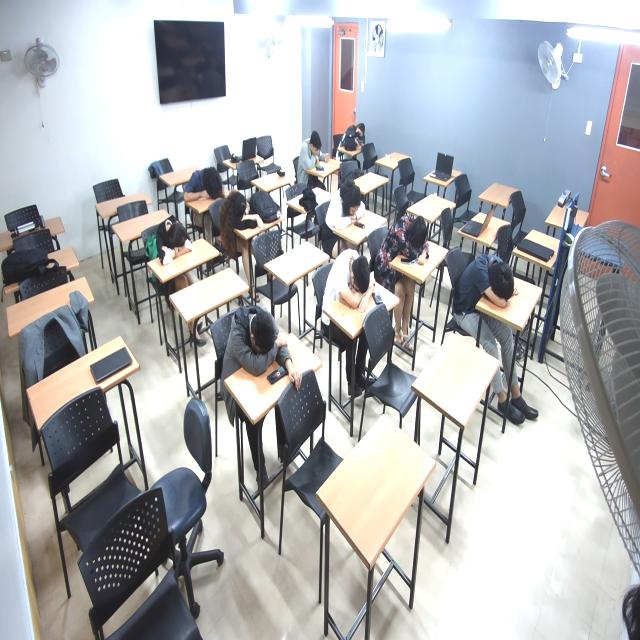sleep: (221, 299, 291, 376), (455, 246, 519, 312), (137, 210, 191, 278), (323, 251, 379, 316), (322, 177, 372, 238), (384, 212, 434, 267), (217, 188, 265, 241), (181, 163, 228, 209), (340, 120, 369, 154)
